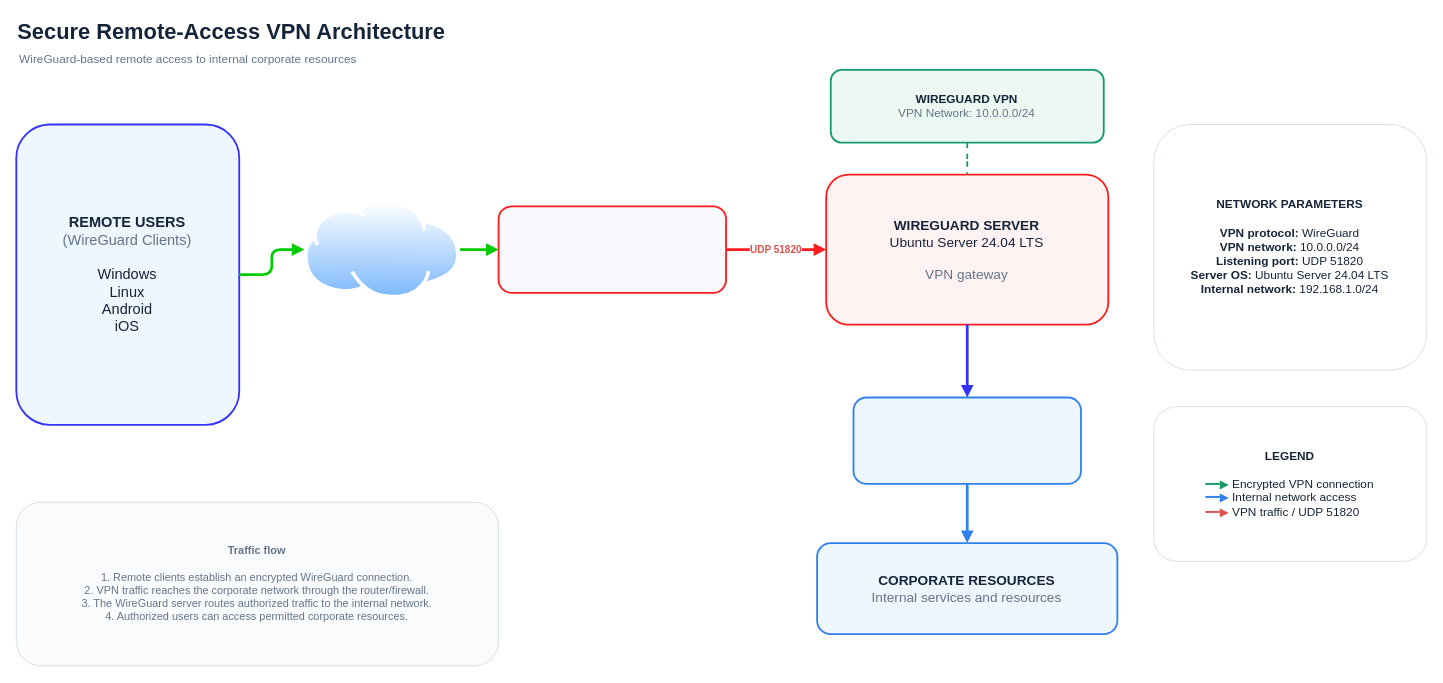
Some shapes in this 1443 by 683 pixel diagram are drawn without their labels. The shapes that lost their labels are listed below. From the top down, each one's centre as x and y in pixels, then its label:
pixel 382 249: INTERNET
pixel 612 249: ROUTER / FIREWALL VPN traffic
pixel 966 440: INTERNAL NETWORK 192.168.1.0/24
